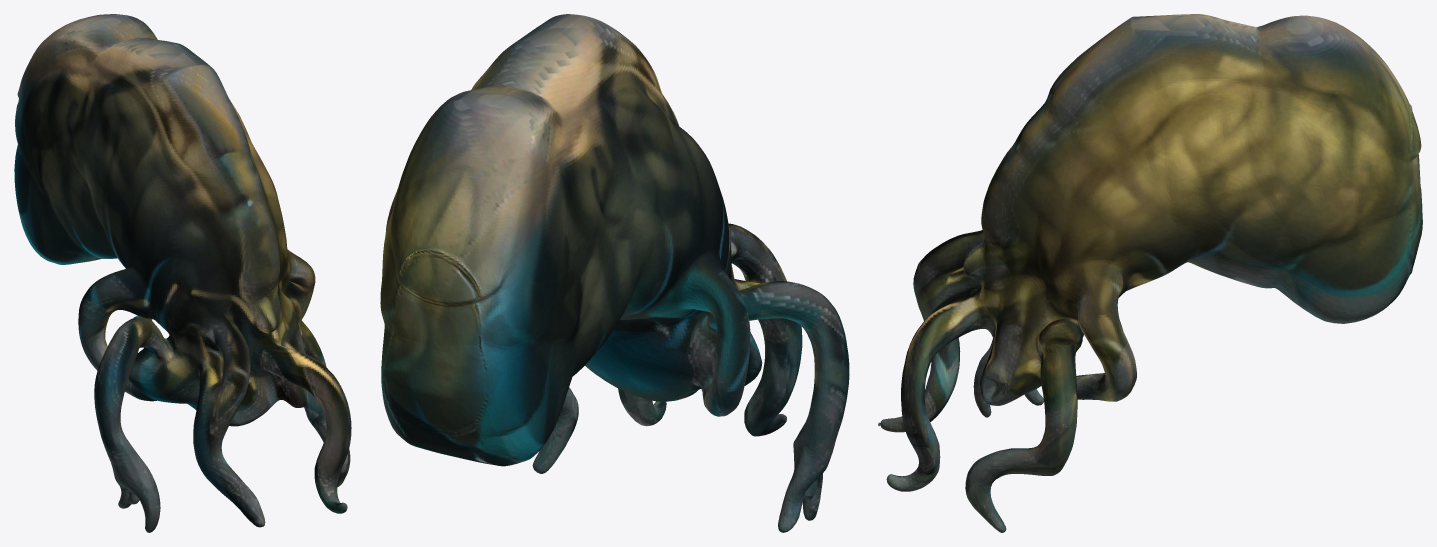
File: desiccated_brain_slug.glb
3 renders of one model, left to right at view 1: azimuth 30°, elevation 25°; view 2: azimuth 150°, elevation 25°; view 3: azimuth 270°, elevation 25°, orthographic. The views are drawn at different scales.
Size of the model in its own units: 1.25 by 1.86 by 2.
Materials: 1 (1 with a texture image).
